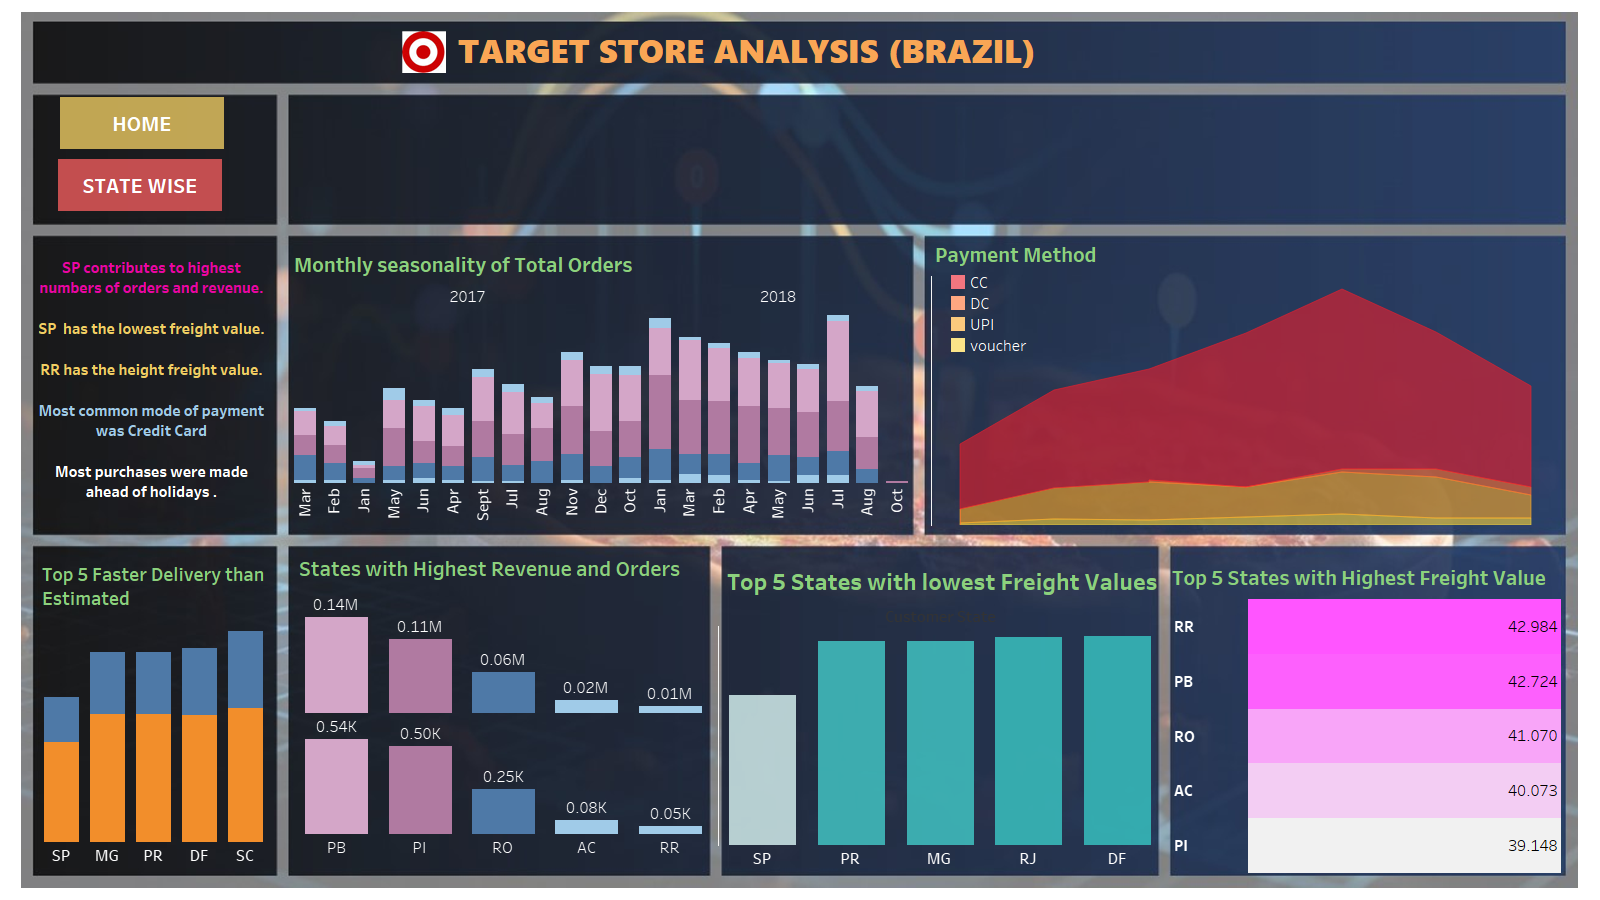

Layout of this report page (visuals, bound fields, positions):
{"tool":"tableau","page":{"name":"Dashboard 1","canvas":[1600,900],"ordinal":0},"visuals":[{"type":"image","param":"C:/Users/BOSS/Downloads/Pizza Tableau 1.jpg","box":[8,8,1584,884]},{"type":"text","box":[415,26,664,47]},{"type":"image","param":"C:/Users/BOSS/Downloads/222.png","box":[402,31,44,47]},{"type":"dashboard-object","box":[60,97,164,52]},{"type":"dashboard-object","box":[58,159,164,52]},{"type":"worksheet","title":"Payement method used ","mark":"Area","rows":["order_id"],"cols":["order_purchase_timestamp"],"box":[931,234,629,291]},{"type":"text","box":[33,242,237,281]},{"type":"worksheet","title":"month wise orders","mark":"Bar","rows":["order_id"],"cols":["order_purchase_timestamp","order_purchase_timestamp","order_purchase_timestamp"],"box":[290,244,622,279]},{"type":"legend","title":"Payement method used ","param":"[federated.01g7wmv11aboo415uv52205k2gyl].[none:payment_type:nk]","box":[948,272,106,103]},{"type":"worksheet","title":"States with highest revenue and orders","mark":"Automatic","rows":["payment_value","order_id"],"cols":["customer_state"],"box":[295,548,417,311]},{"type":"worksheet","title":"Fast Delivery","mark":"Automatic","cols":["customer_state"],"box":[38,555,231,312]},{"type":"worksheet","title":"Top 5 states with highest freight val","mark":"Square","rows":["customer_state"],"box":[1168,557,393,316]},{"type":"worksheet","title":"Top 5 states with lowest freight val (2)","mark":"Automatic","rows":["freight_value"],"cols":["customer_state"],"box":[718,559,444,311]}]}

Visuals, with their boxes in screenshot pixels (x1, y1, x2, y2), scaled from the page's 1600x900 canvas onto the 1600x900 screenshot:
image: BBox(8, 8, 1592, 892)
text: BBox(415, 26, 1079, 73)
image: BBox(402, 31, 446, 78)
dashboard-object: BBox(60, 97, 224, 149)
dashboard-object: BBox(58, 159, 222, 211)
"Payement method used " worksheet (Area marks): BBox(931, 234, 1560, 525)
text: BBox(33, 242, 270, 523)
"month wise orders" worksheet (Bar marks): BBox(290, 244, 912, 523)
"Payement method used " legend: BBox(948, 272, 1054, 375)
"States with highest revenue and orders" worksheet: BBox(295, 548, 712, 859)
"Fast Delivery" worksheet: BBox(38, 555, 269, 867)
"Top 5 states with highest freight val" worksheet (Square marks): BBox(1168, 557, 1561, 873)
"Top 5 states with lowest freight val (2)" worksheet: BBox(718, 559, 1162, 870)
